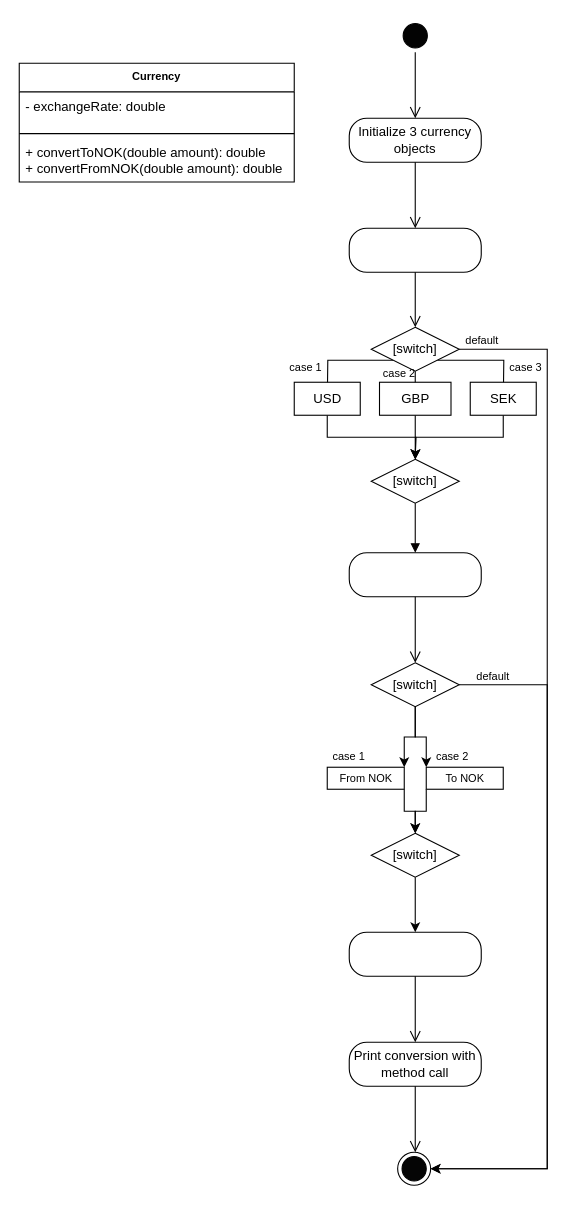
Some shapes in this 578 by 1205 pixel diagram are drawn without their labels. Each missing label, with the centre of its shape:
"User choose to convert to or from NOK" goes at point 414,574.
"User chooses currency to work with" goes at point 414,249.
"User enters amount to convert" goes at point 414,953.
